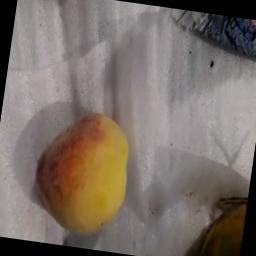Peach Unripe: (19, 96, 153, 246)
